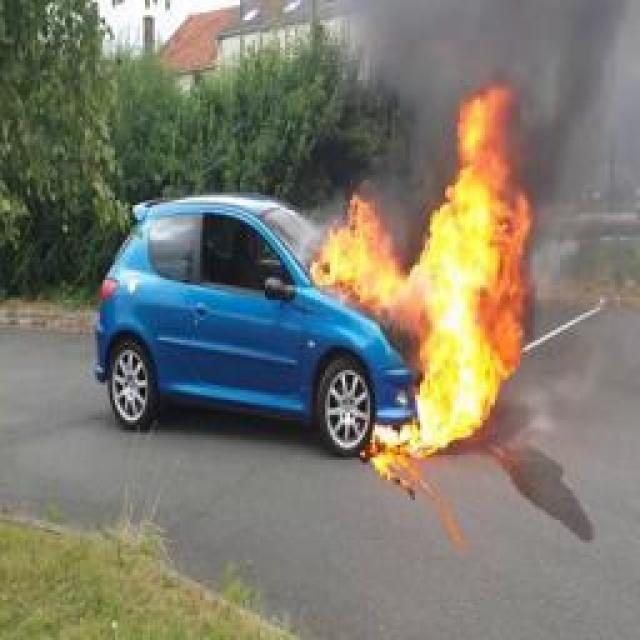Fire: (318, 84, 532, 458)
